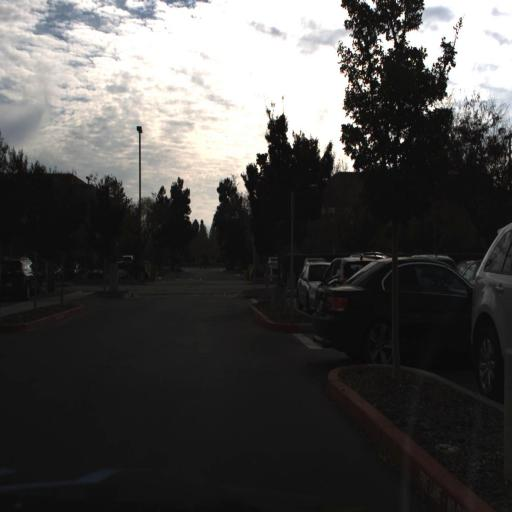car: (313, 252, 471, 368), (463, 220, 512, 403), (0, 251, 39, 304), (292, 252, 323, 316), (264, 254, 283, 276)
